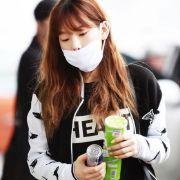WRONG: (59, 25, 106, 72)
